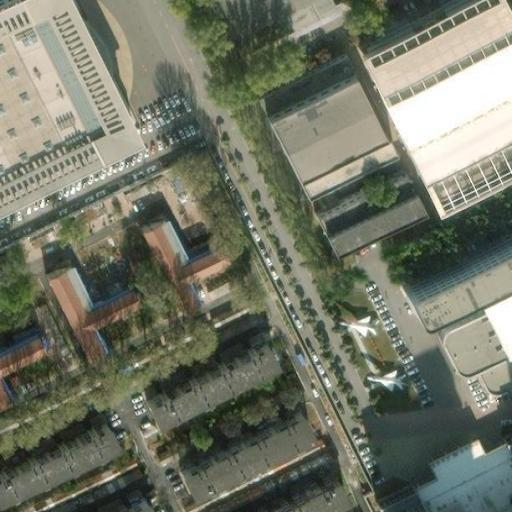building: (360, 0, 512, 215), (0, 0, 138, 218), (264, 76, 388, 197), (128, 204, 238, 317), (31, 251, 134, 365), (182, 417, 313, 504), (142, 350, 272, 433), (397, 226, 512, 313), (312, 173, 419, 259), (0, 431, 116, 509), (411, 439, 512, 512), (250, 48, 349, 119), (434, 289, 512, 378), (18, 297, 65, 363), (274, 484, 343, 512), (95, 488, 156, 512)
